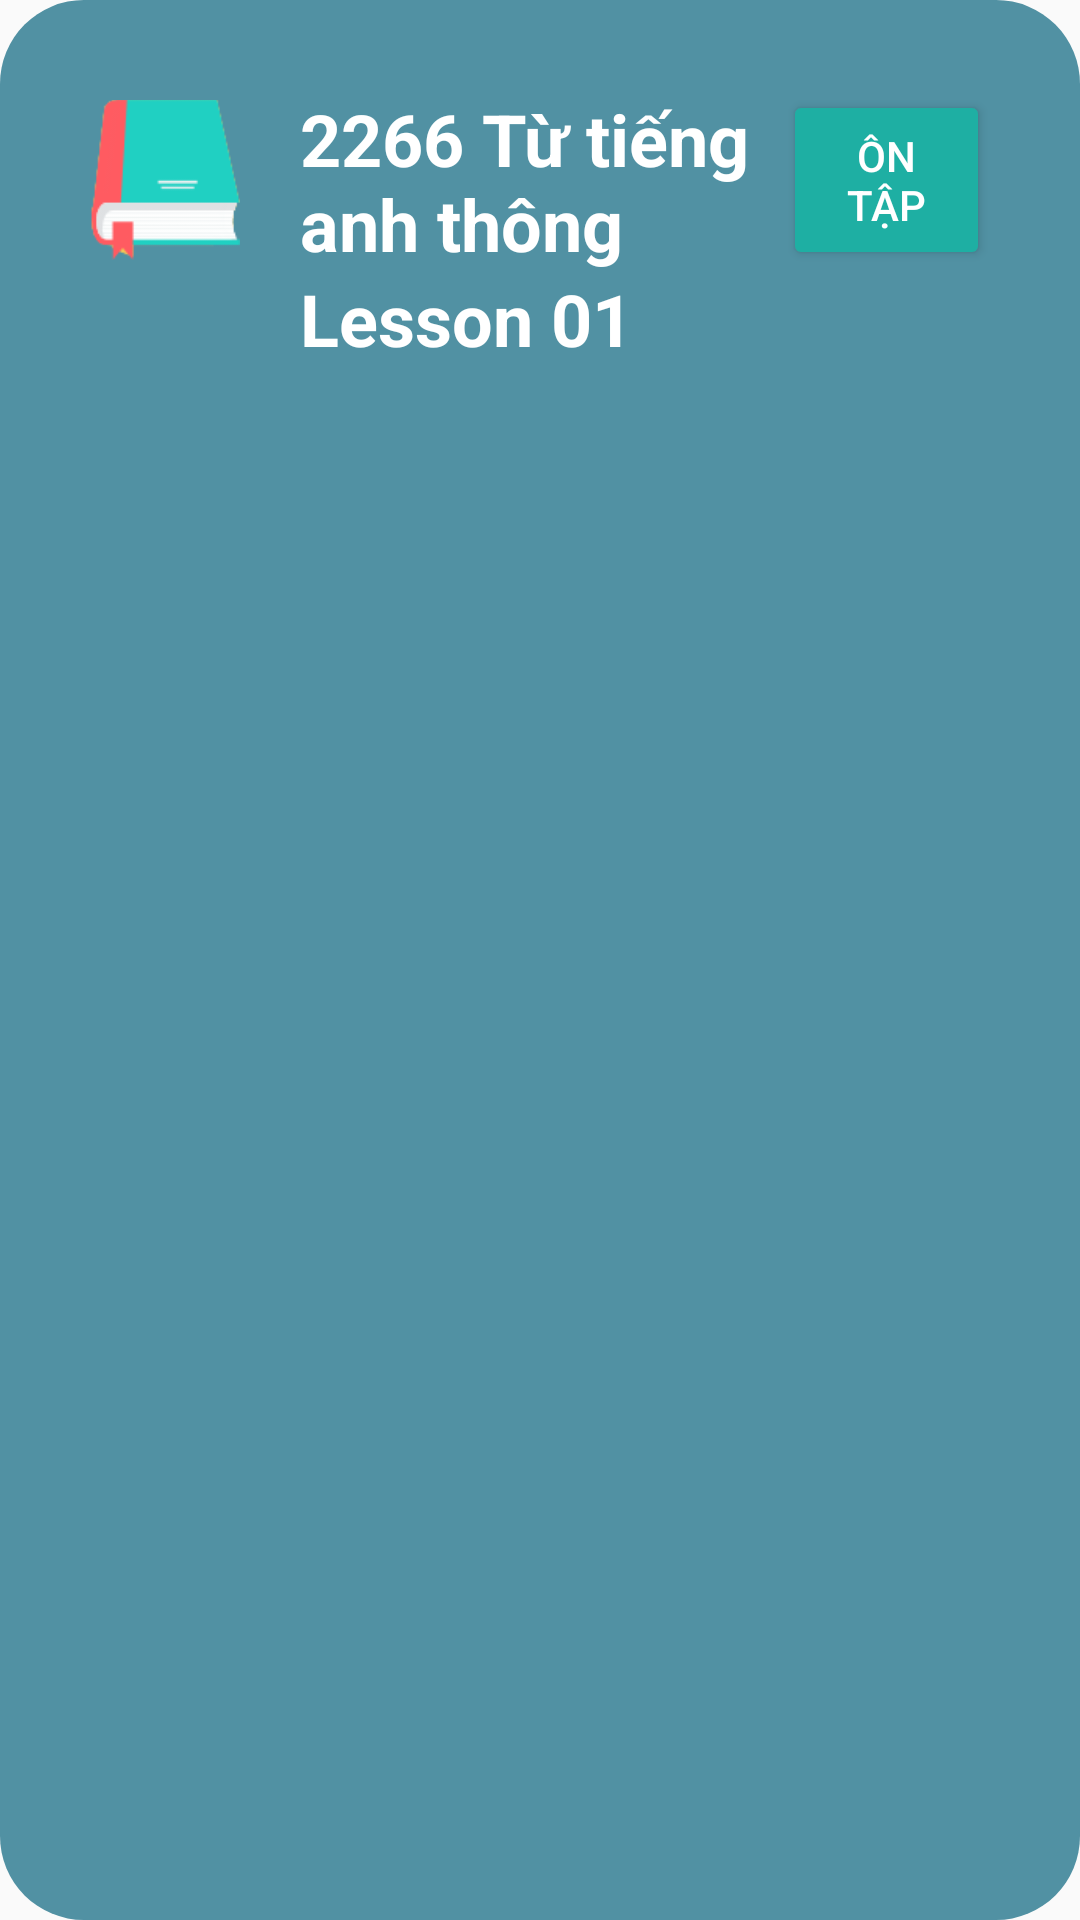

Locate icon controls on the screen. Image size 1080×1920, boxes as (x1, y1, x2, y2).
booknew: (91, 100, 240, 259)
